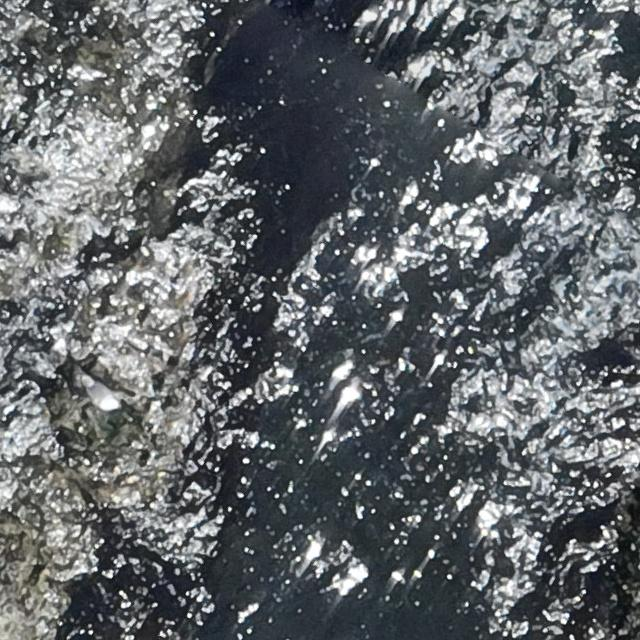umineko: (86, 380, 117, 410)
